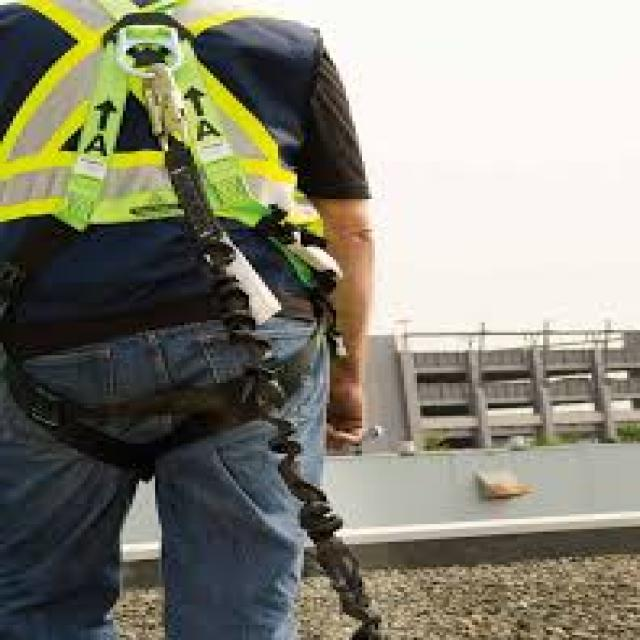harness: (130, 57, 383, 640)
